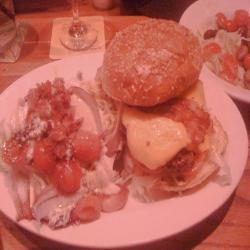burger: (95, 15, 237, 200)
salad: (10, 176, 84, 231)
